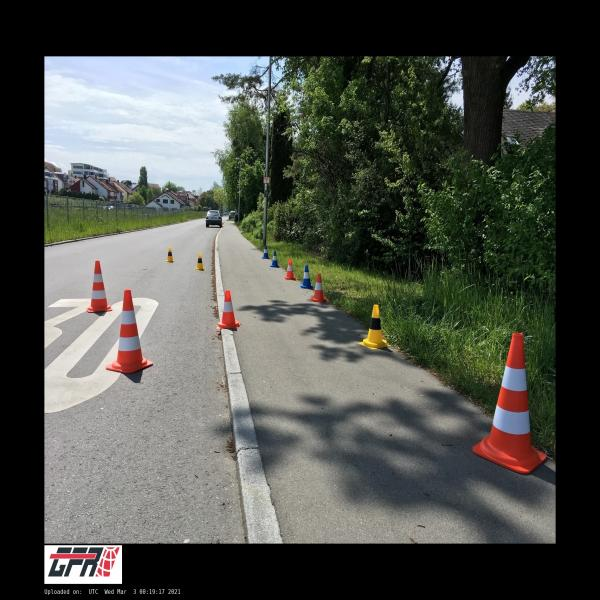blue_cone: (299, 265, 313, 289), (270, 251, 280, 268), (270, 251, 280, 267), (262, 245, 270, 259)
large_orange_cone: (473, 333, 546, 473), (106, 290, 153, 374), (86, 260, 113, 312)
orange_cone: (216, 290, 241, 329), (309, 274, 328, 302), (284, 259, 296, 280)
yellow_cone: (359, 305, 391, 350), (194, 253, 206, 271), (165, 247, 175, 262)
